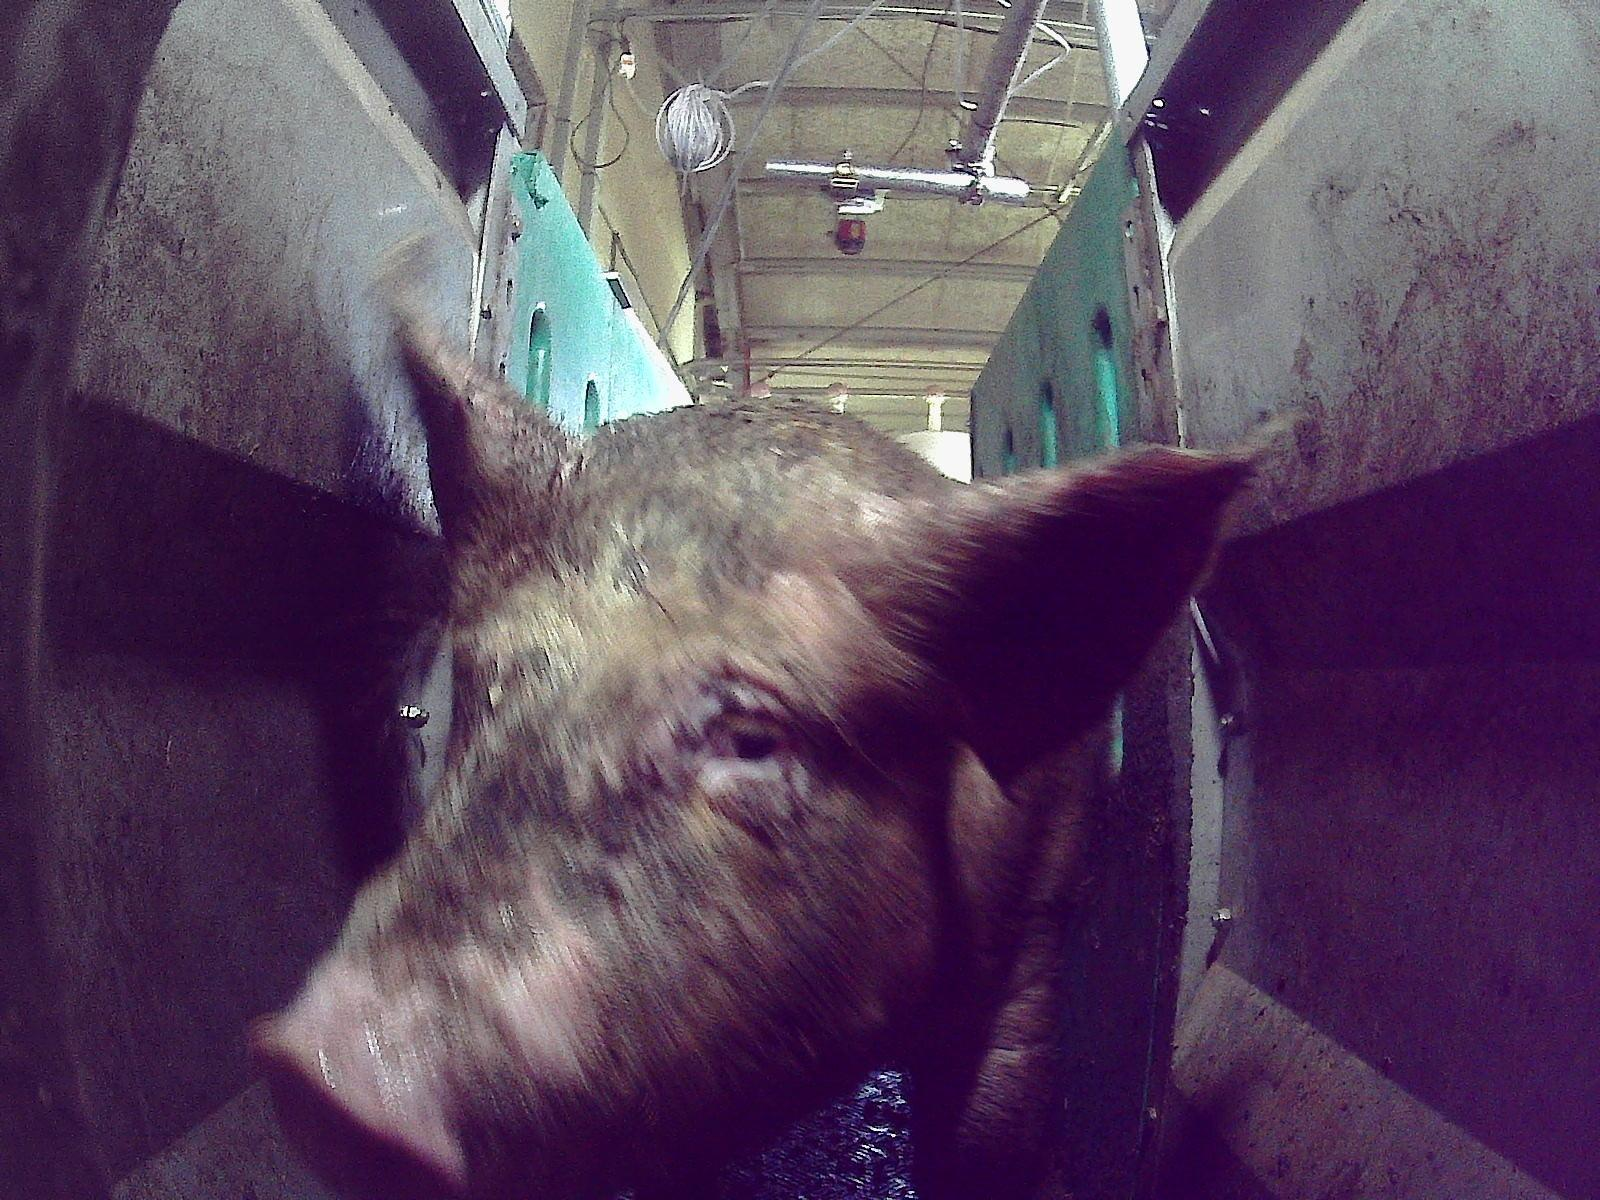Face: (249, 488, 946, 1199)
